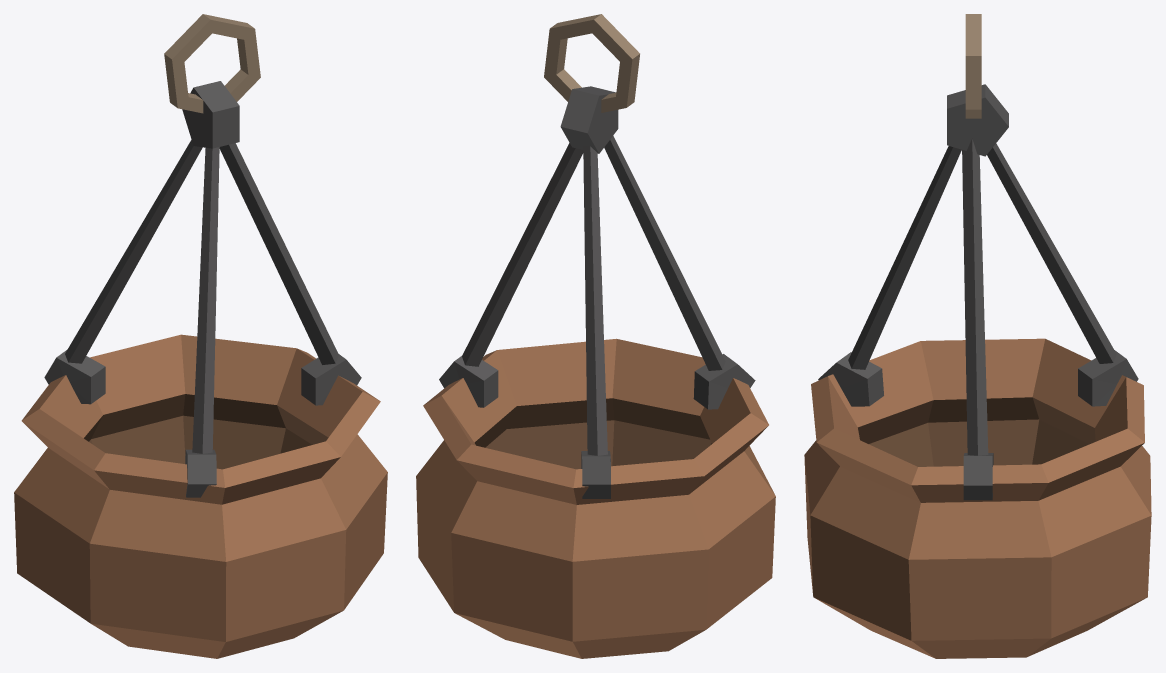
File: SM_Prop_Pot_Hanging_01.glb
3 renders of one model, left to right at view 1: azimuth 30°, elevation 25°; view 2: azimuth 150°, elevation 25°; view 3: azimuth 270°, elevation 25°, orthographic.
Parts seen in each view (by area): view 1: SM_Prop_Pot_Hanging_01; view 2: SM_Prop_Pot_Hanging_01; view 3: SM_Prop_Pot_Hanging_01.
Boxes of the visible parts, x1,y1,x2,y2 form: SM_Prop_Pot_Hanging_01: (14, 14, 387, 658); SM_Prop_Pot_Hanging_01: (416, 14, 775, 658); SM_Prop_Pot_Hanging_01: (804, 14, 1151, 658).
Size of the model in its own units: 0.7535 by 1.41 by 0.7427.
Materials: 1 (1 with a texture image).
